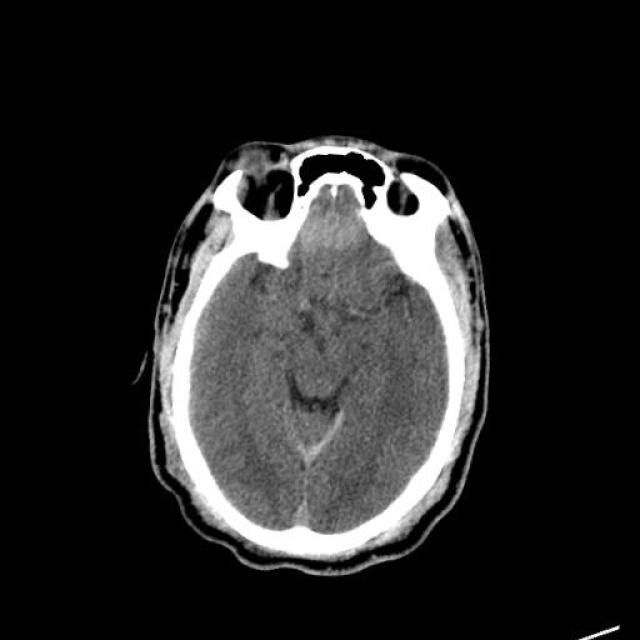Subdural: (265, 403, 371, 551)
